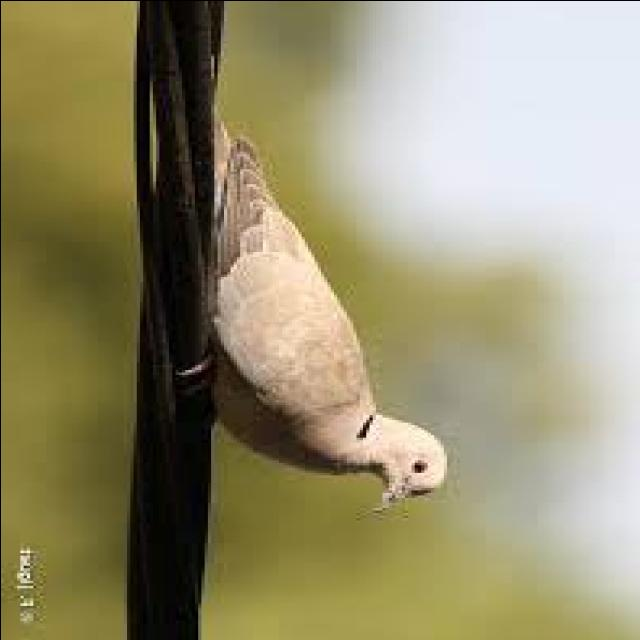pigeon: (166, 106, 478, 526)
